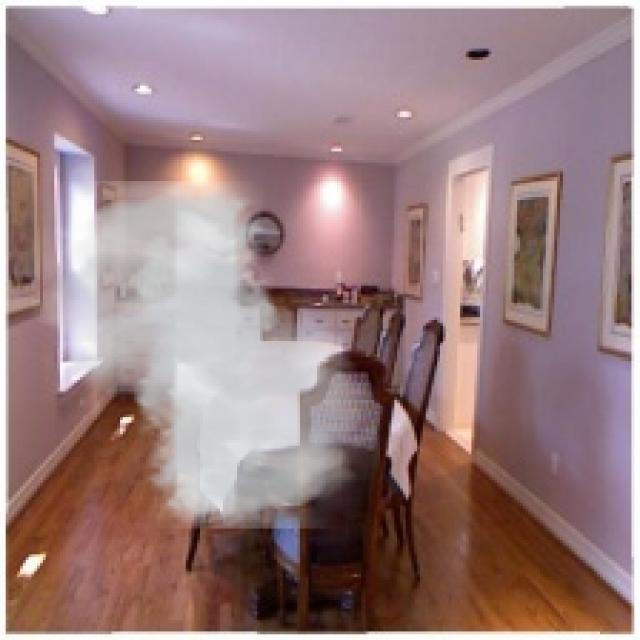smoke: (31, 180, 380, 529)
